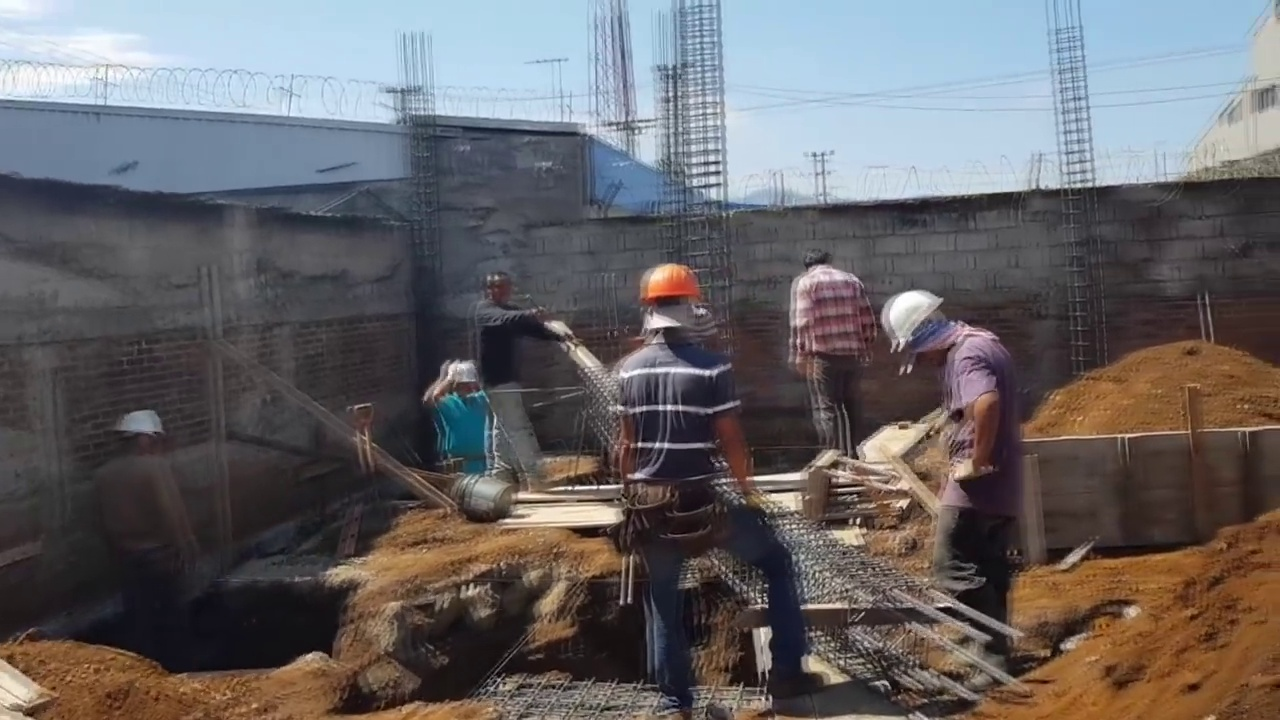helmet: (883, 287, 944, 351), (636, 264, 699, 307), (448, 360, 479, 383)
helmet-off: (803, 248, 841, 280), (479, 269, 510, 301)
helmet-on: (880, 286, 967, 377), (636, 264, 701, 344), (110, 410, 168, 461), (435, 358, 479, 401), (110, 410, 166, 437)
person: (613, 263, 803, 717), (880, 287, 1019, 608), (466, 269, 566, 491), (790, 239, 883, 463), (91, 411, 190, 619), (420, 356, 498, 481)
